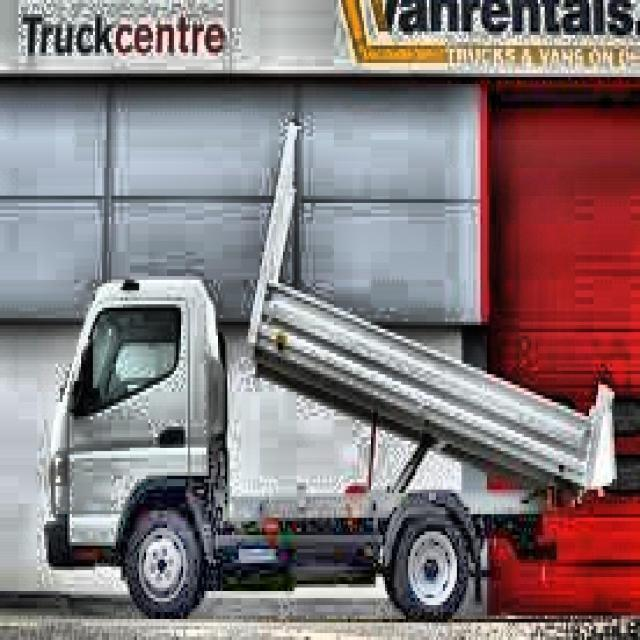dump_truck: (52, 115, 624, 625)
